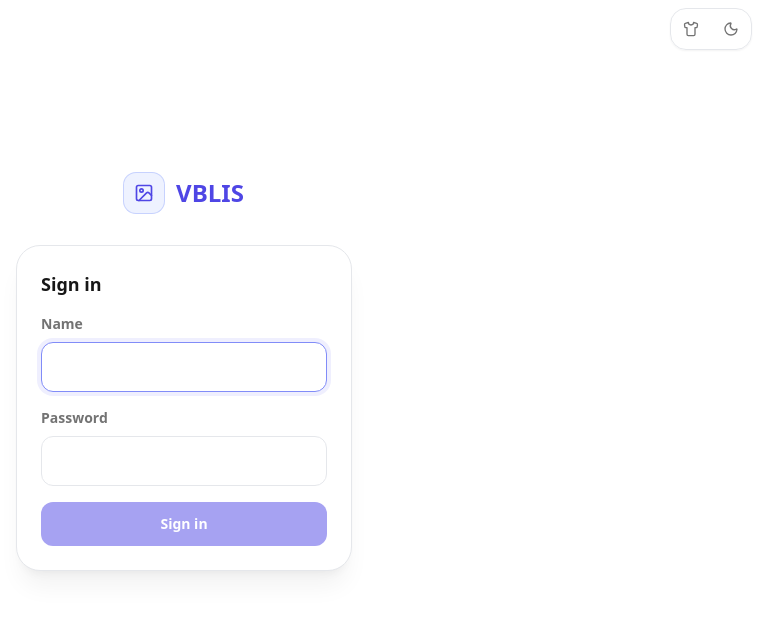
SessionGate › in a browser › signing in › reports a network error when the challenge cannot be fetched
Type "alice" into the field labelled "Name" at (184, 367), box left=41, top=342, right=327, bottom=392
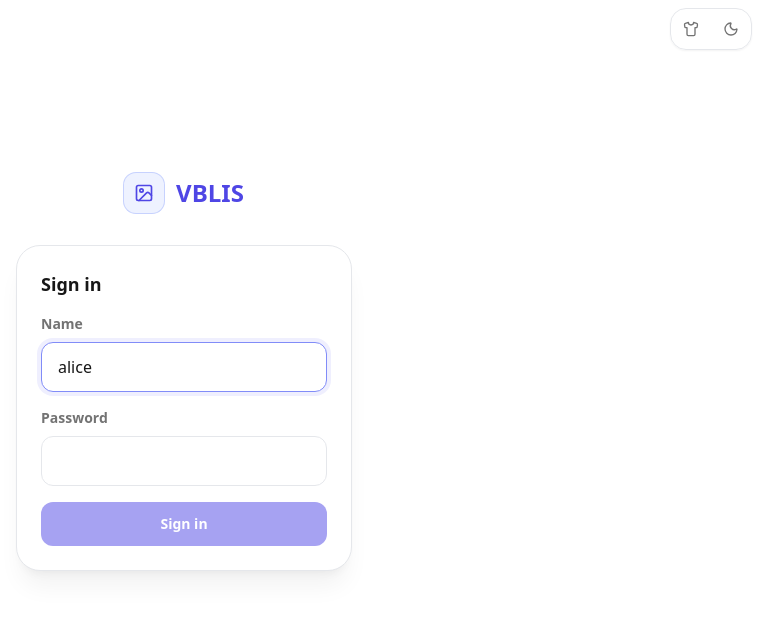
Type "secret" into the password field labelled "Password" at (184, 461), box left=41, top=436, right=327, bottom=486
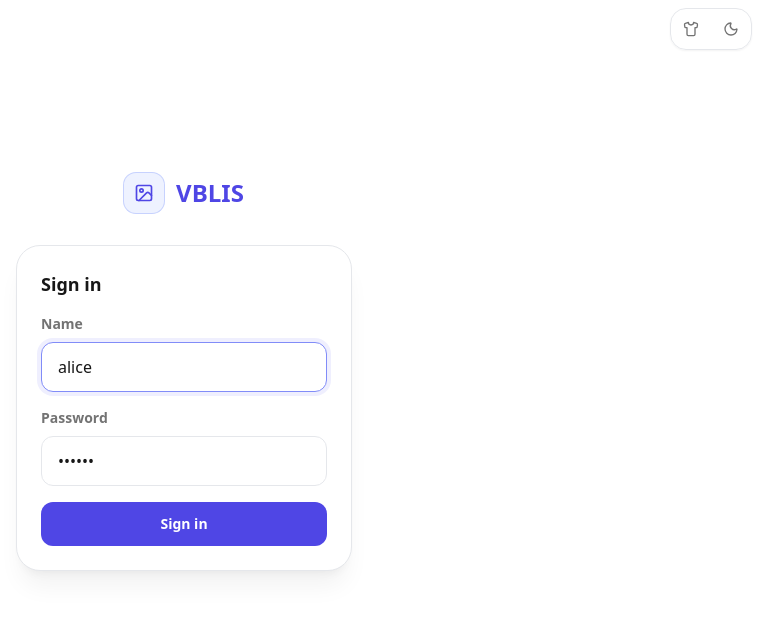
Click the button "Sign in" at (184, 524), box left=41, top=502, right=327, bottom=546
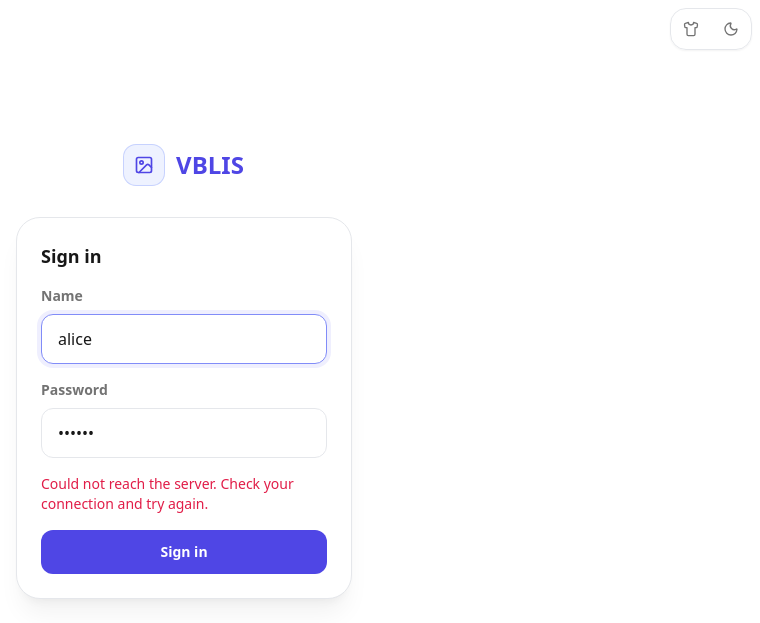
Check: the message reads "Could not reach the server. Check your connection and try again.", box left=41, top=474, right=294, bottom=513
